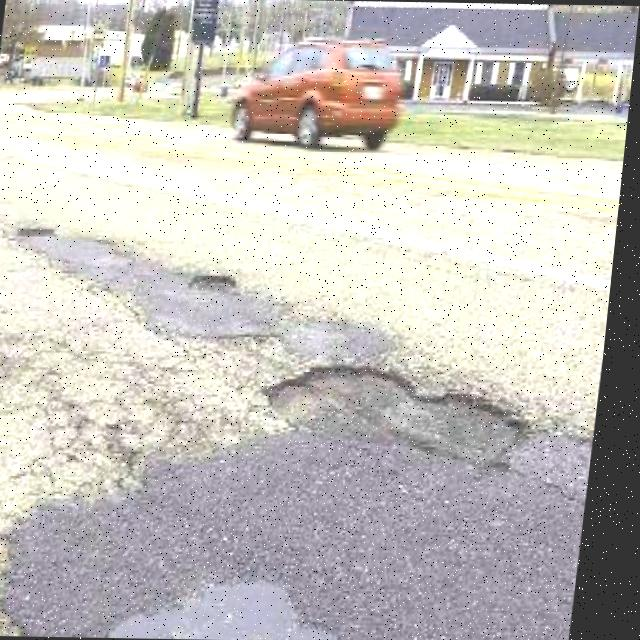Pothole: (260, 361, 551, 475), (190, 267, 244, 295), (15, 218, 61, 239)
